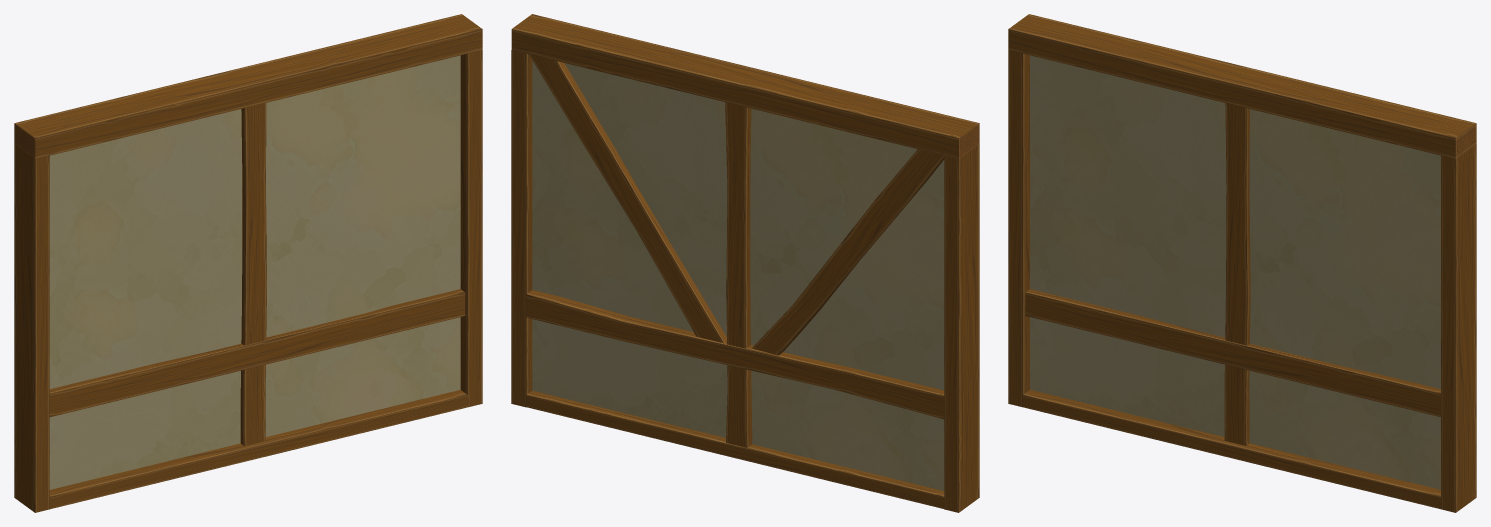
Rendered from SM_House_Wall_5x4_A_01.fbx.
3 views of the same model, side by side, from view 1: azimuth 30°, elevation 25°; view 2: azimuth 150°, elevation 25°; view 3: azimuth 330°, elevation 25° (orthographic).
Parts seen in each view (by area): view 1: SM_House_Wall_5x4_A_01; view 2: SM_House_Wall_5x4_A_01; view 3: SM_House_Wall_5x4_A_01.
Part boxes in pixels (x1,y1,x2,y2): SM_House_Wall_5x4_A_01: [14, 14, 482, 512]; SM_House_Wall_5x4_A_01: [511, 14, 979, 512]; SM_House_Wall_5x4_A_01: [1008, 14, 1476, 512].
Size of the model in its own units: 5 by 4 by 0.4024.
